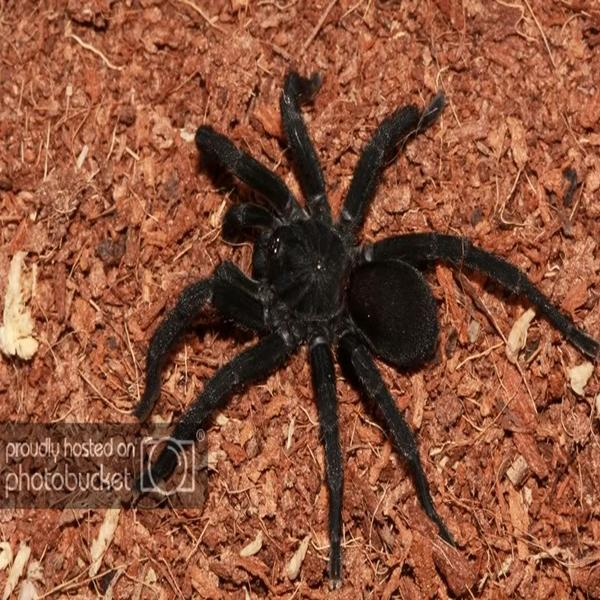Tarantula Spider: (148, 81, 538, 519)
